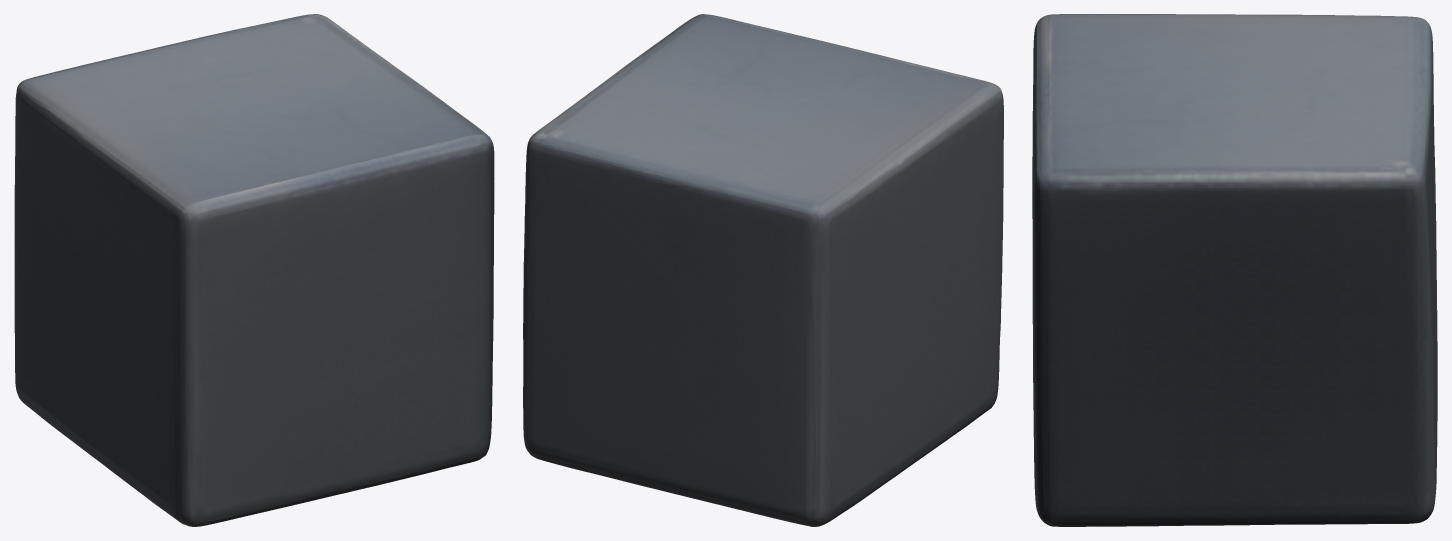
File: set2_obj2.glb
3 renders of one model, left to right at view 1: azimuth 30°, elevation 25°; view 2: azimuth 150°, elevation 25°; view 3: azimuth 270°, elevation 25°, orthographic. The views are drawn at different scales.
Visible parts, largest first — view 1: world; view 2: world; view 3: world.
Part boxes in pixels (x1,y1,x2,y2): world: [14, 14, 494, 526]; world: [523, 14, 1003, 526]; world: [1032, 14, 1437, 526].
Bounding box in the file's own units: 0.4727 × 0.4711 × 0.4815.
